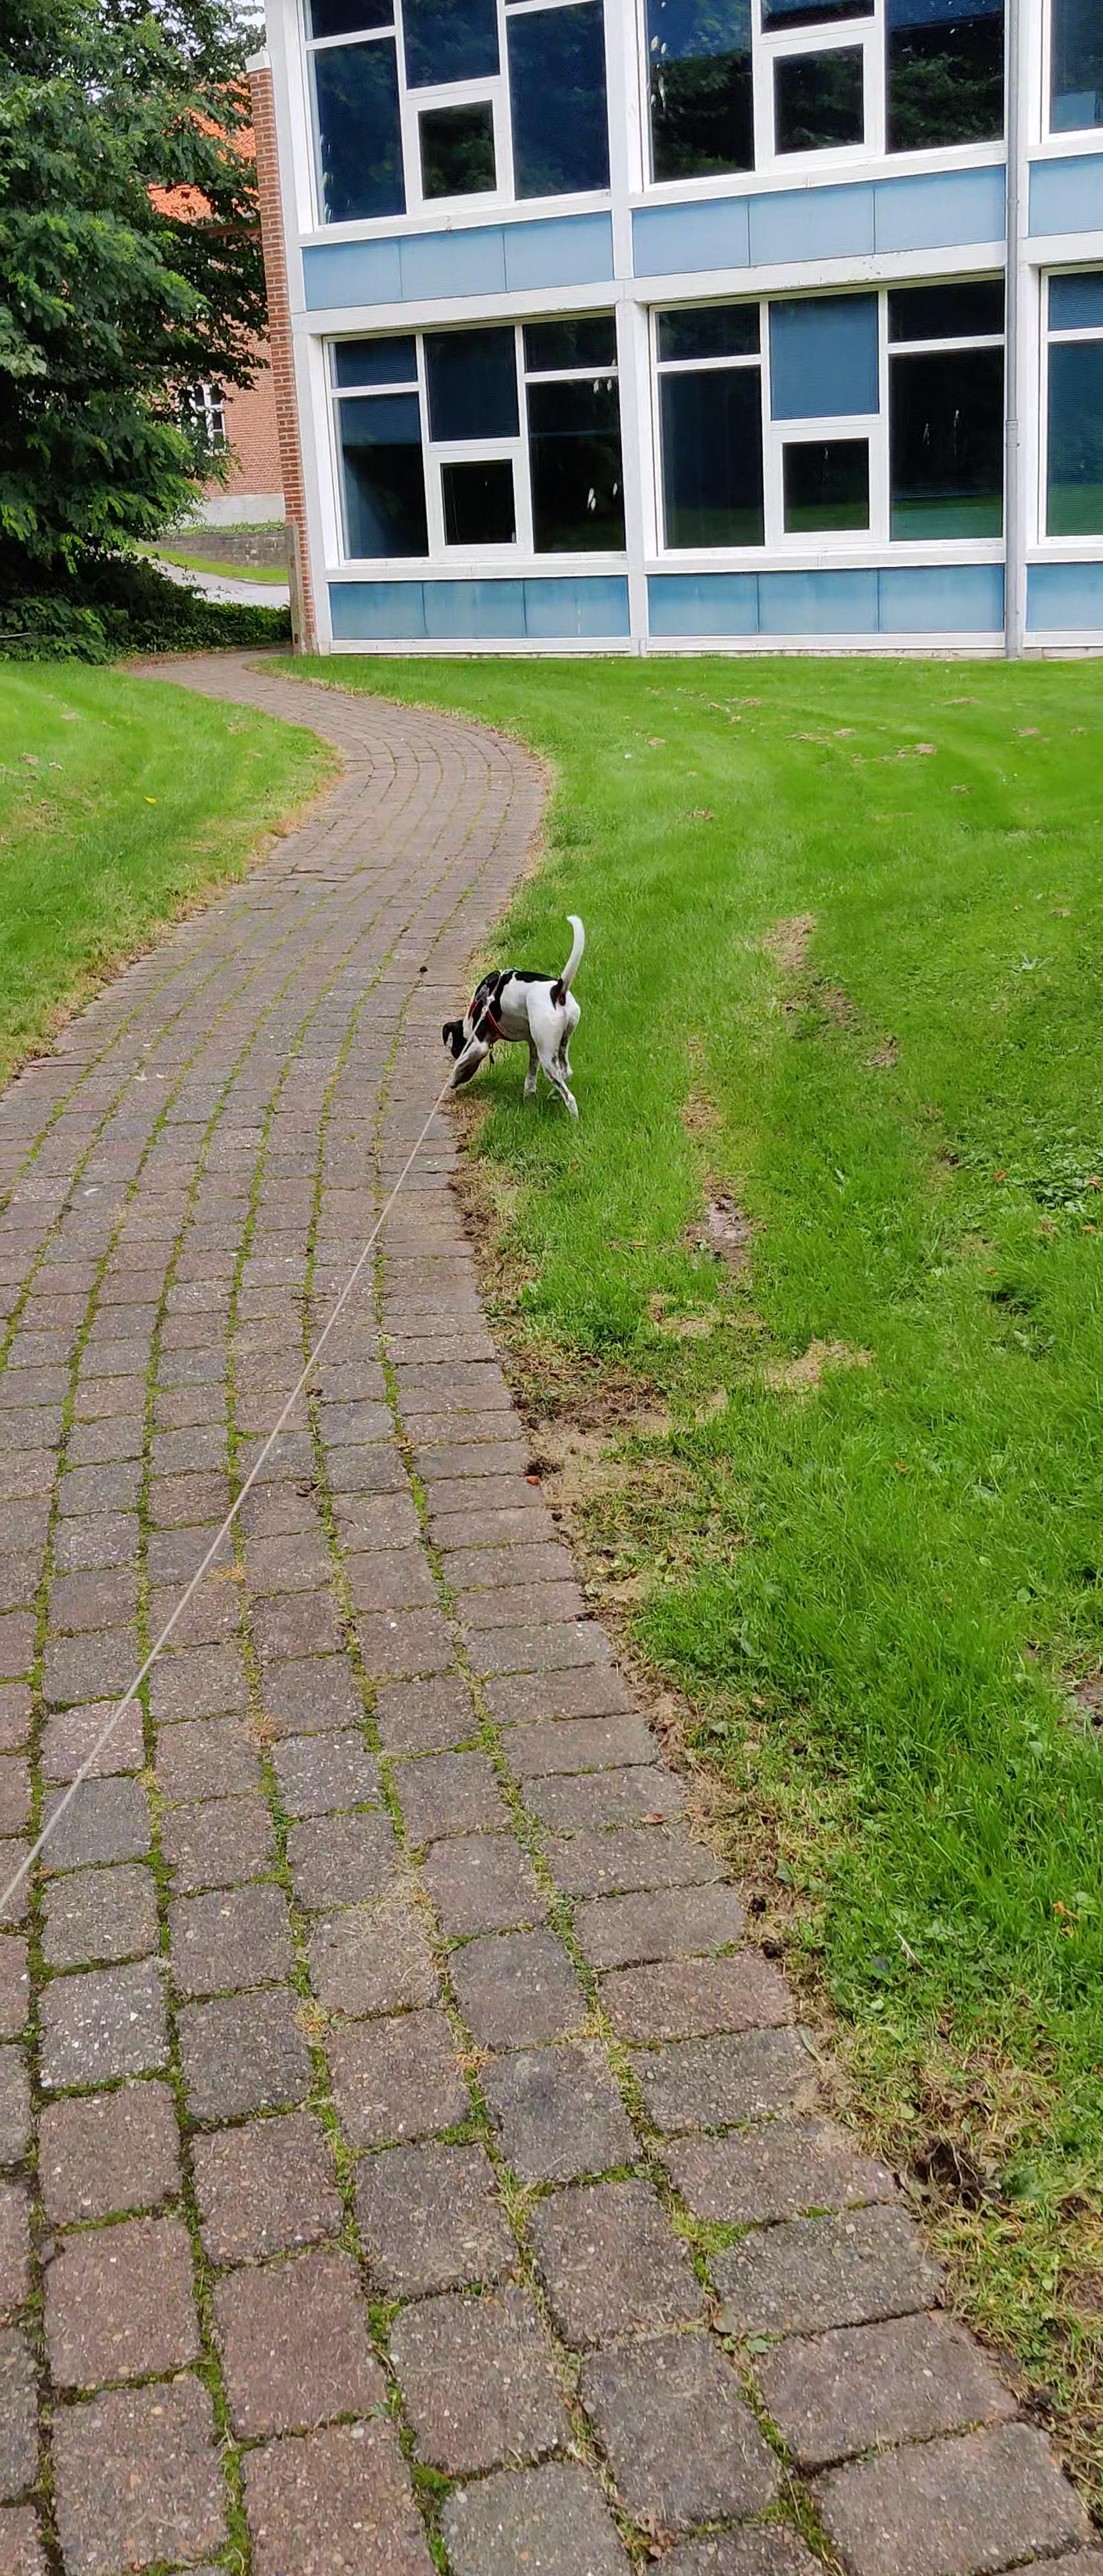Dog: (434, 912, 593, 1127)
